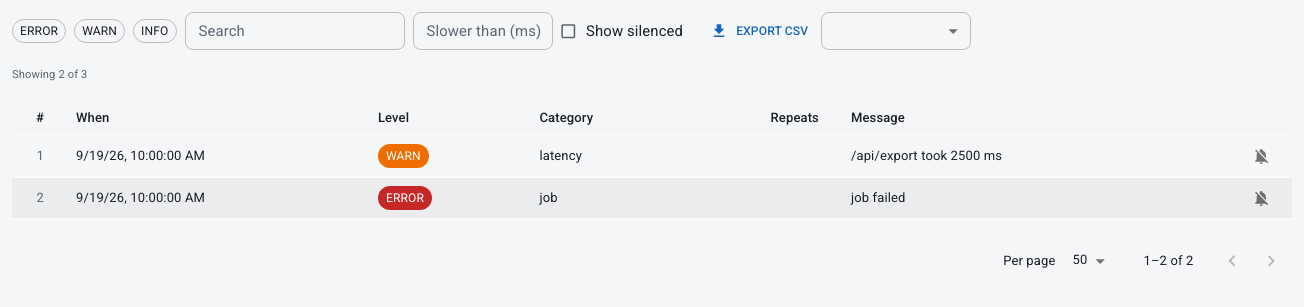
Test: looking back at past alerts › reads a past day from the history and says so
The width and height of the screenshot is (1304, 307).
Click the dropdown named "Day": coordinates (896, 31) 821,12 -> 971,50
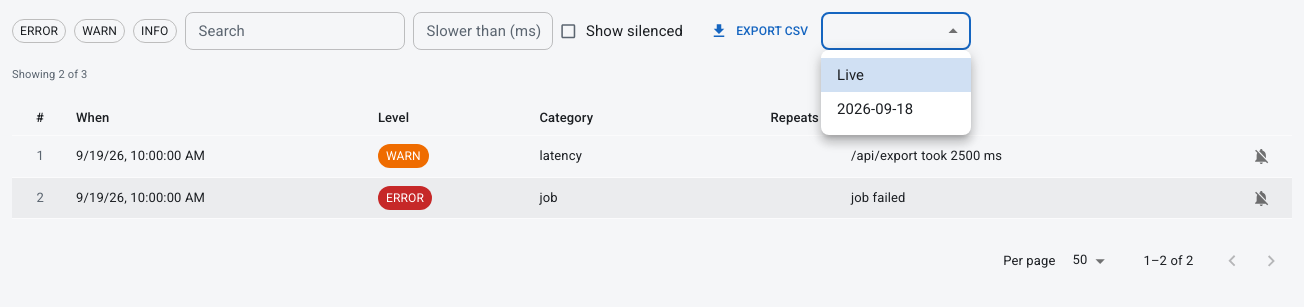
Click the option "2026-09-18": coordinates (875, 109) 837,100 -> 913,118
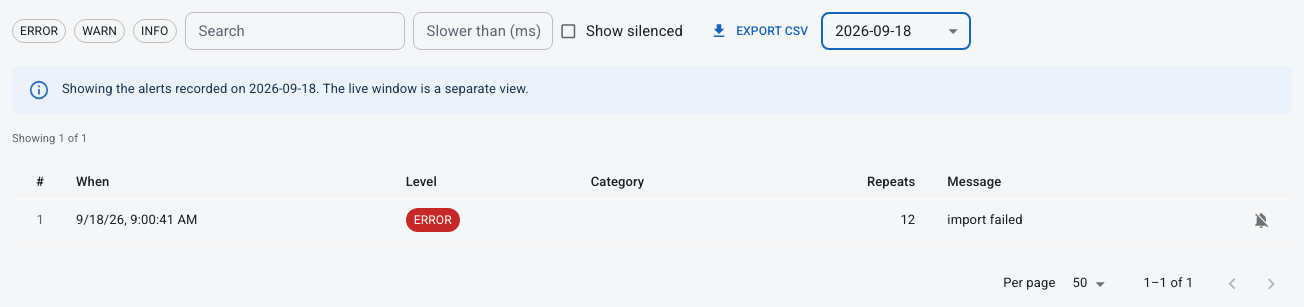
Now the text "import failed" is shown, box 947,212 -> 1023,227
Now the text "Showing the alerts recorded on 2026-09-18" is shown, box 62,81 -> 529,96
Now the text "job failed" is gone
